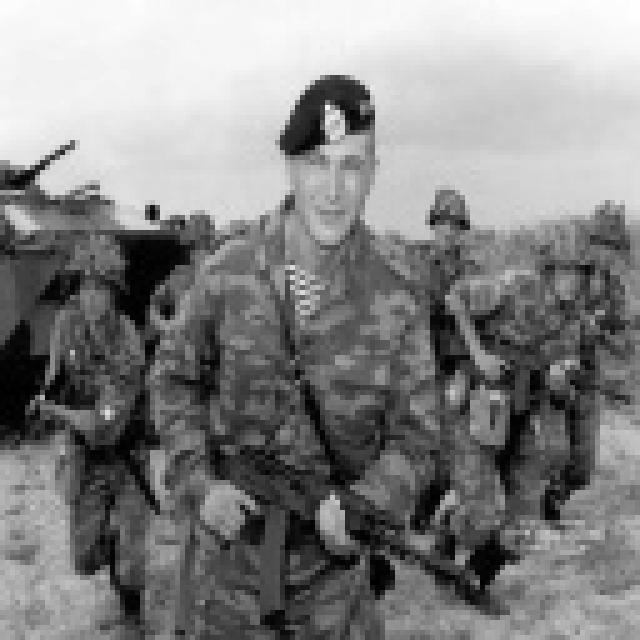Rifle: (215, 420, 500, 640), (437, 280, 640, 448), (0, 315, 130, 505)
